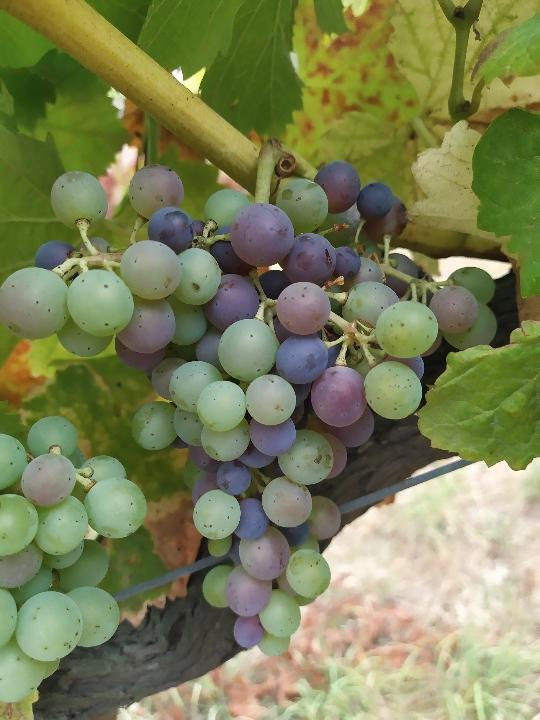grape: (0, 155, 496, 657)
